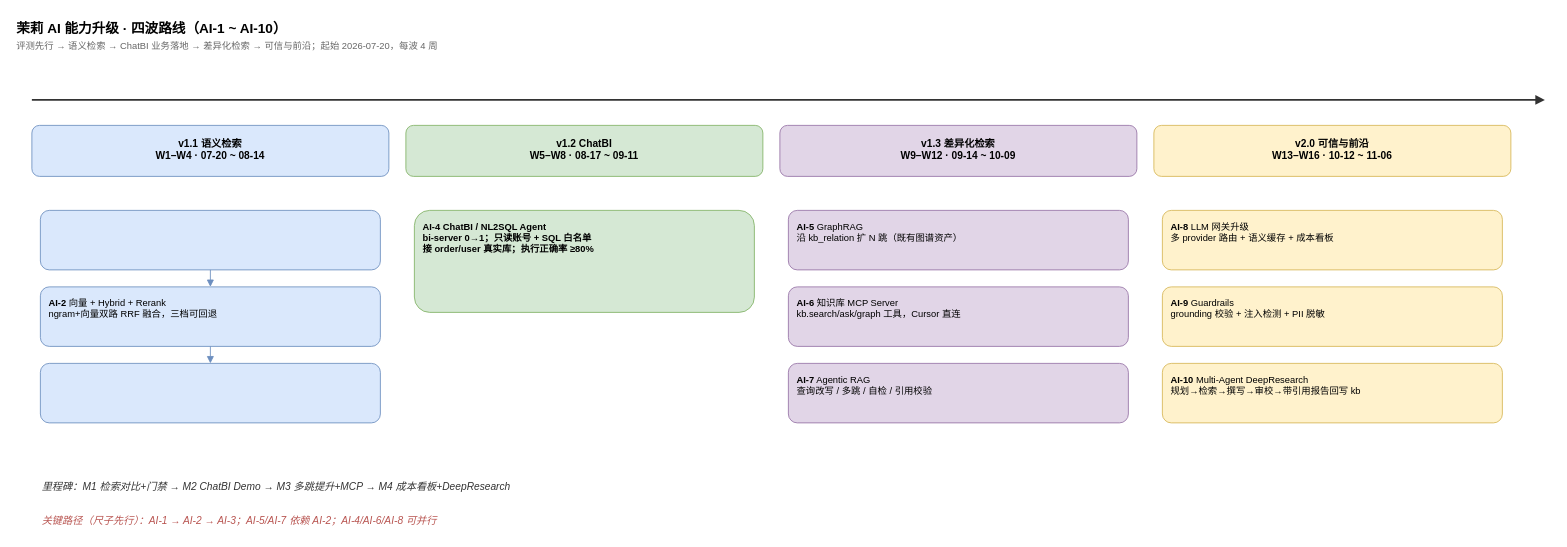
Image size: 1567x547. Some labels were removed from this diagram. Here are the shapes that lost their labels. From the top down, the centre of each, then its label:
At pixel 210 240: "AI-1 评测扩容 golden 12→≥50，脏 query + 拒答负样本".
At pixel 210 393: "AI-3 Eval 回归看板 + CI 门禁 kb_eval_run 落库 · 趋势曲线 · gate-at-k".
